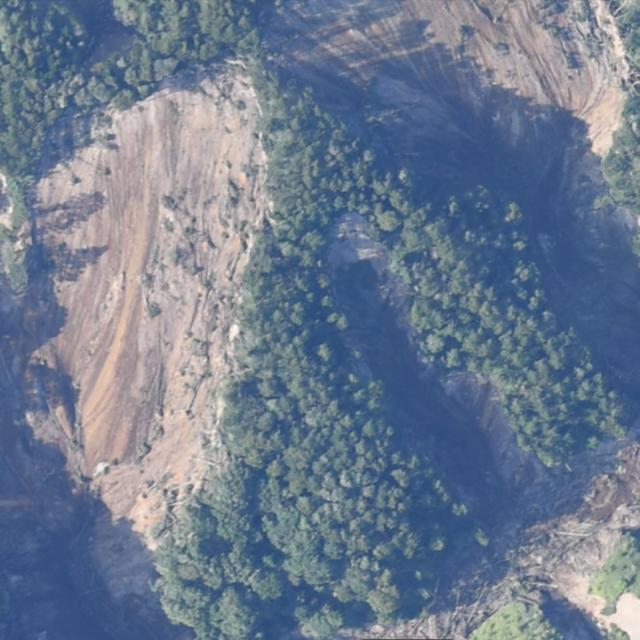landslide: (268, 1, 640, 407), (24, 69, 267, 547), (370, 441, 640, 640)
